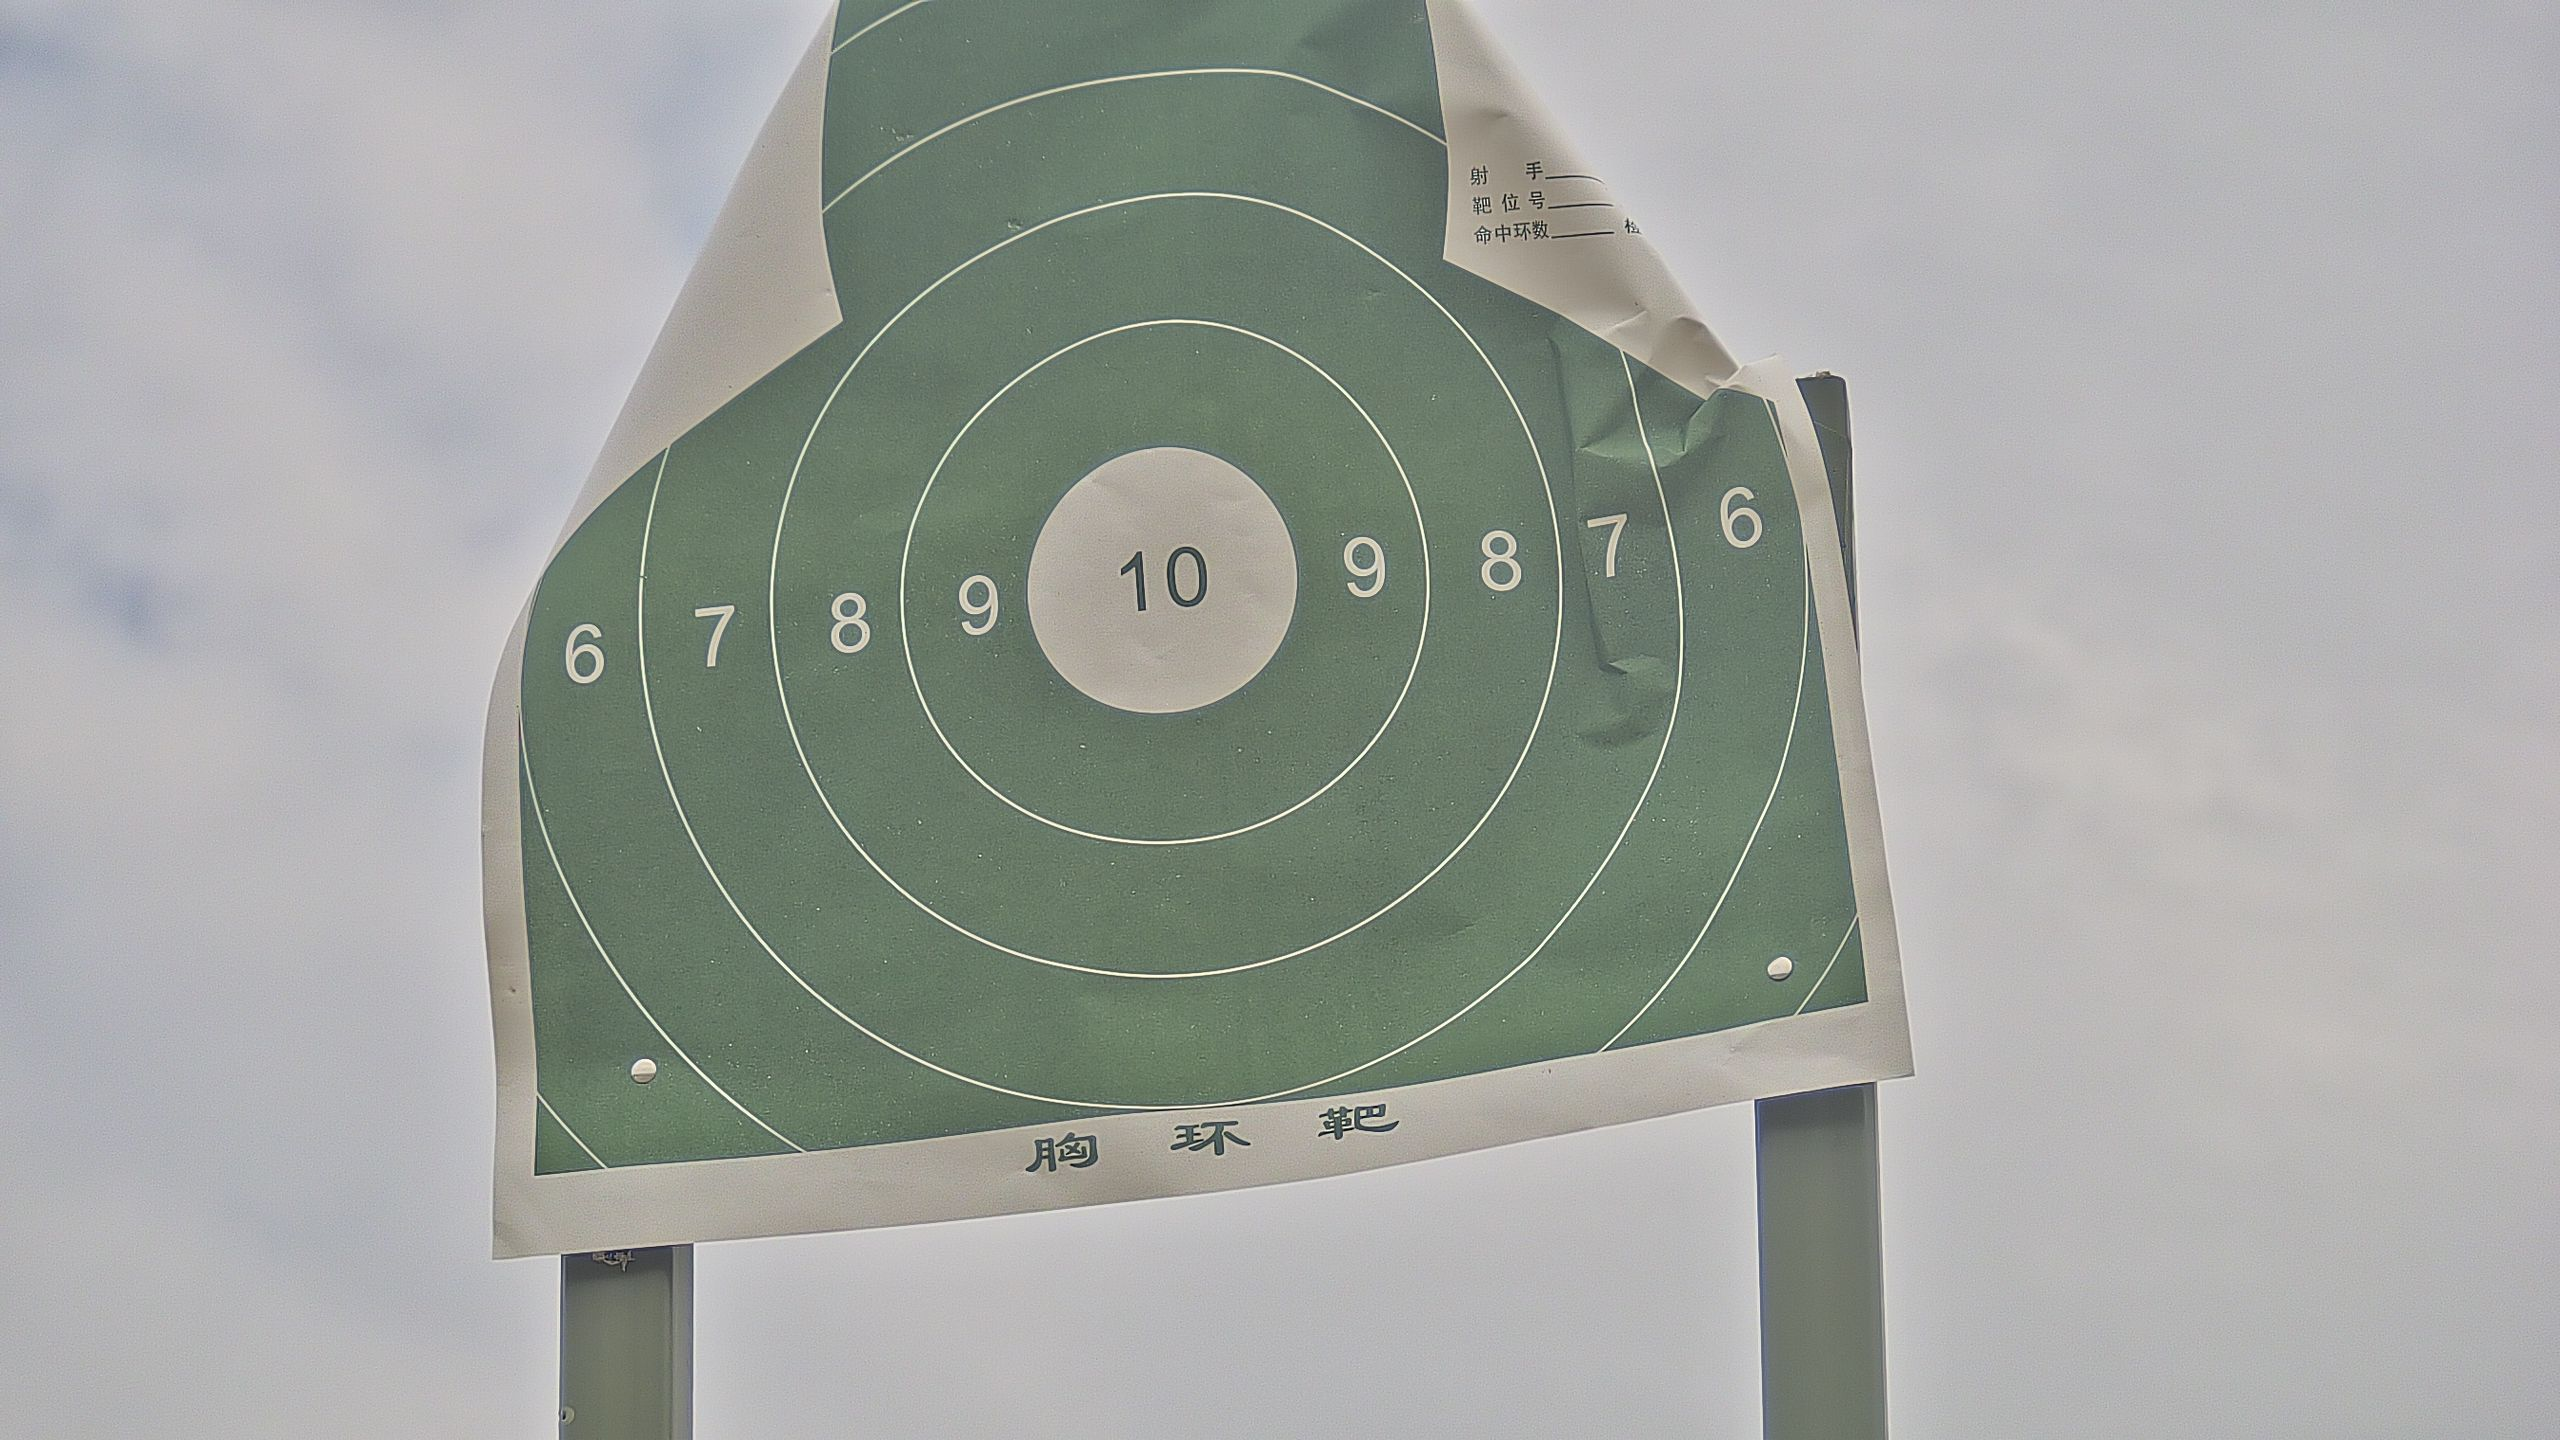kernel: (1153, 577, 1155, 580)
target: (517, 2, 1876, 1173)
ten: (1022, 445, 1298, 719)
